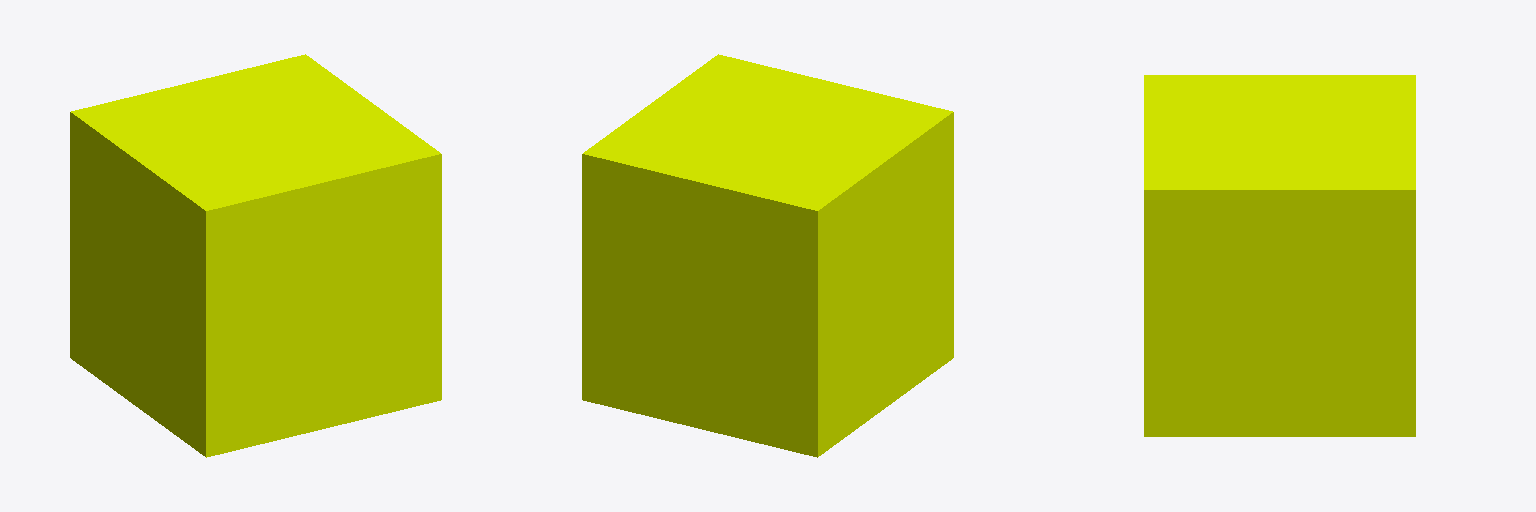
3 views of the same model, side by side, from view 1: azimuth 30°, elevation 25°; view 2: azimuth 150°, elevation 25°; view 3: azimuth 270°, elevation 25° (orthographic).
Visible parts, largest first — view 1: object 1; view 2: object 1; view 3: object 1.
Part boxes in pixels (x1,y1,x2,y2): object 1: (70, 54, 441, 457); object 1: (582, 54, 953, 457); object 1: (1144, 75, 1415, 436).
Size of the model in its own units: 1 by 1 by 1.
1 materials, 1 textured.